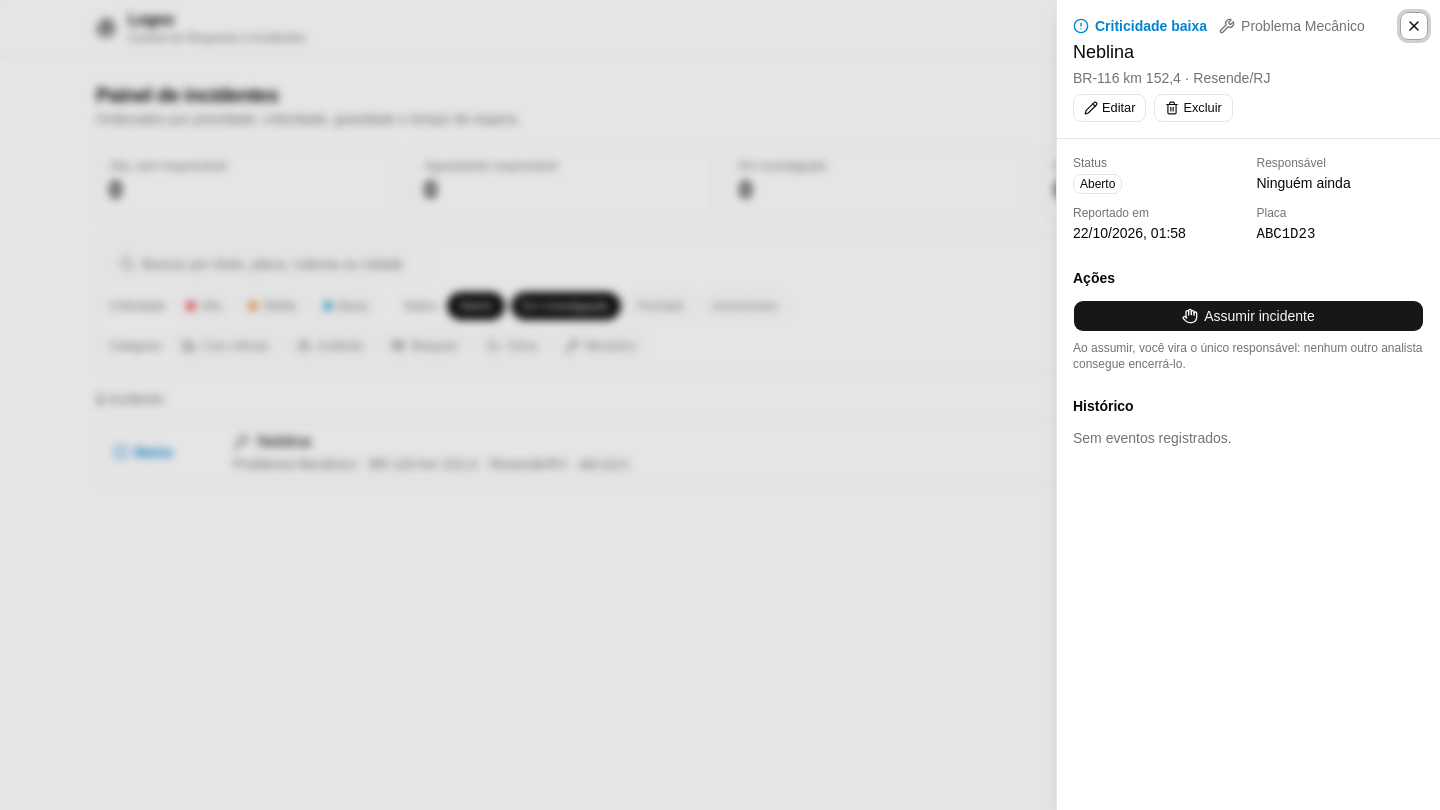
Test: ações sobre o incidente › queda de rede desfaz a mudança otimista e explica o motivo
The width and height of the screenshot is (1440, 810).
Expected: the heading "Neblina" is shown, [1073,42,1134,62]
Click the button "Assumir incidente". click: (1248, 316)
box: [1073,300,1424,332]
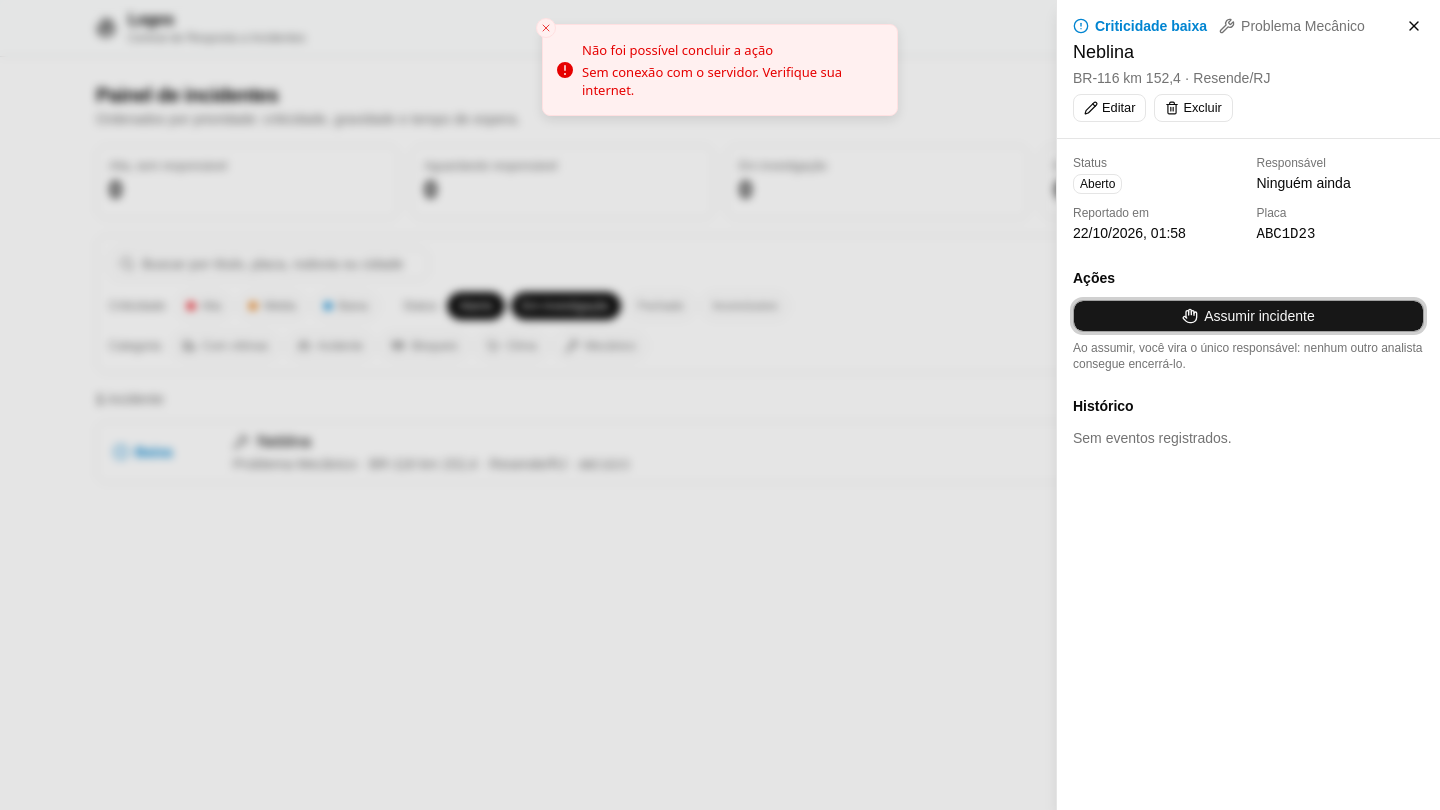
Expected: the text "Ninguém ainda" is shown, [1256,175,1351,191]
Now the text "Não foi possível concluir a ação" is shown, box [582,41,773,59]
Now the text "Sem conexão com o servidor. Verifique sua internet." is shown, box [582,62,881,99]
